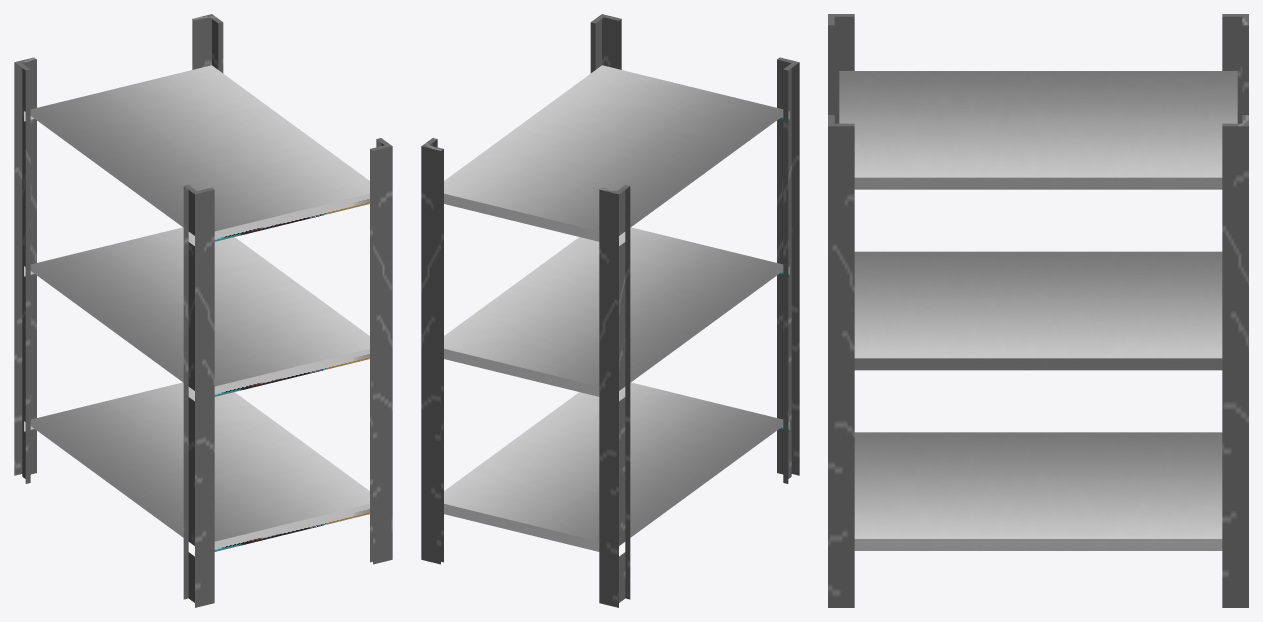
File: PreservesShalf.fbx
3 views of the same model, side by side, from view 1: azimuth 30°, elevation 25°; view 2: azimuth 150°, elevation 25°; view 3: azimuth 270°, elevation 25° (orthographic). The views are drawn at different scales.
Parts seen in each view (by area): view 1: Shalf; view 2: Shalf; view 3: Shalf.
Boxes of the visible parts, left/top/right/bottom form: Shalf: left=14, top=14, right=392, bottom=607; Shalf: left=421, top=14, right=799, bottom=607; Shalf: left=828, top=14, right=1248, bottom=607.
Size of the model in its own units: 200 by 400 by 317.
